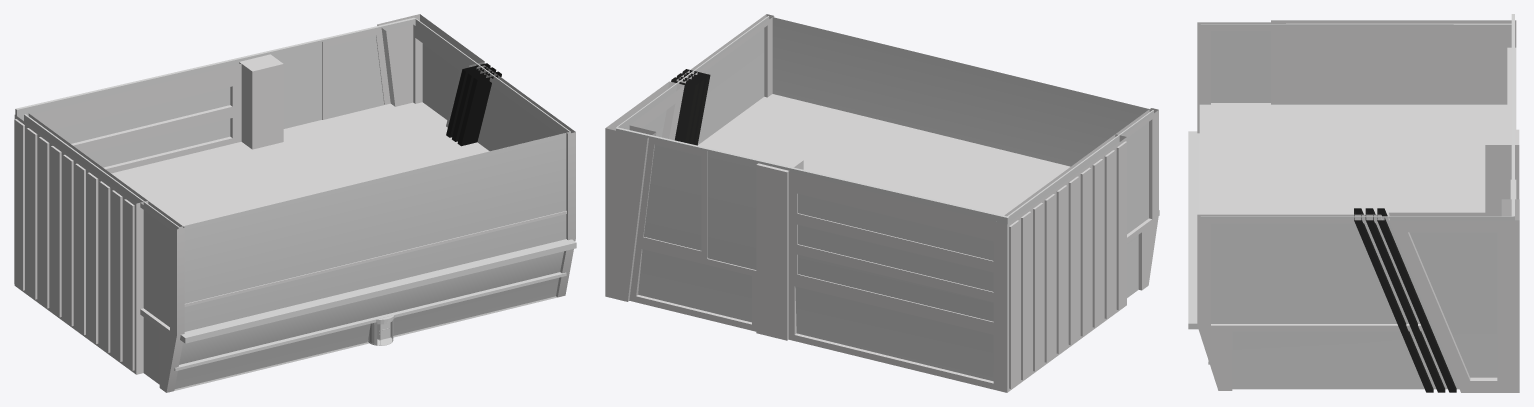
File: LMS Lobby.fbx
3 renders of one model, left to right at view 1: azimuth 30°, elevation 25°; view 2: azimuth 150°, elevation 25°; view 3: azimuth 270°, elevation 25°, orthographic. The views are drawn at different scales.
Parts seen in each view (by area): view 1: Lobby Floor; view 2: Lobby Floor; view 3: Lobby Floor.
Boxes of the visible parts, x1,y1,x2,y2 form: Lobby Floor: [14, 14, 576, 392]; Lobby Floor: [605, 14, 1159, 392]; Lobby Floor: [1188, 14, 1519, 392].
Bounding box in the file's own units: 52.26 × 21.68 × 36.41.
